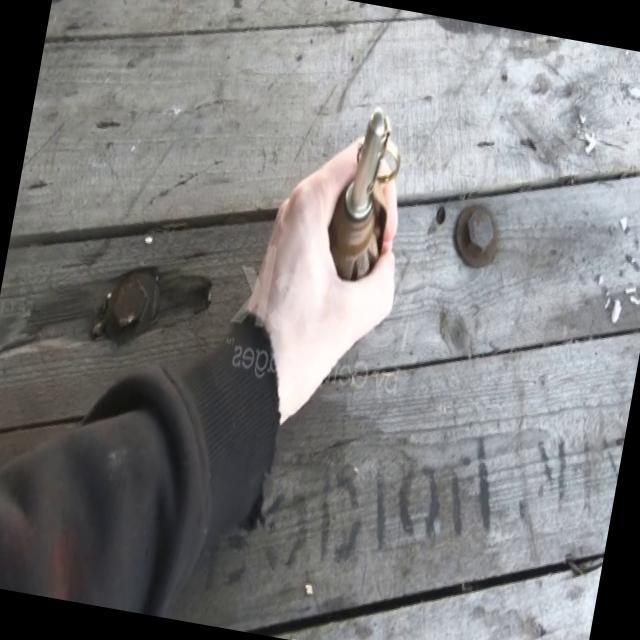grenade: (322, 99, 409, 286)
